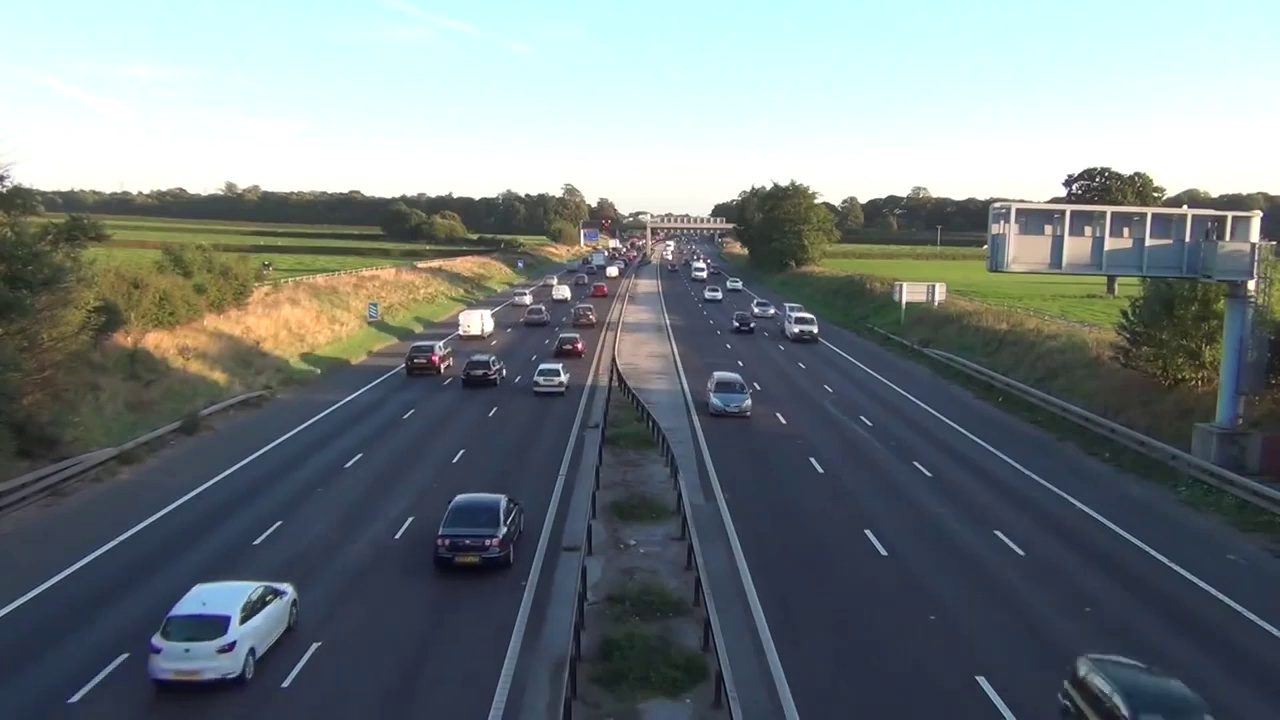bus: (145, 579, 300, 685), (1057, 652, 1220, 720), (434, 492, 527, 566), (704, 371, 753, 420), (405, 341, 454, 375), (462, 354, 507, 385), (533, 362, 571, 396), (785, 311, 820, 343), (552, 333, 585, 359), (572, 304, 597, 326), (732, 310, 757, 332), (524, 305, 550, 326), (511, 289, 534, 307), (752, 300, 775, 318), (551, 284, 572, 302), (702, 285, 724, 301), (591, 282, 608, 297), (725, 277, 743, 291), (605, 266, 619, 279), (574, 273, 589, 285), (543, 275, 559, 286)
car: (458, 309, 496, 339), (590, 251, 608, 269), (691, 262, 708, 281)
